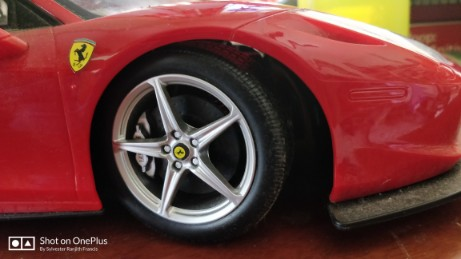unaligned_wheel: (94, 44, 329, 249)
